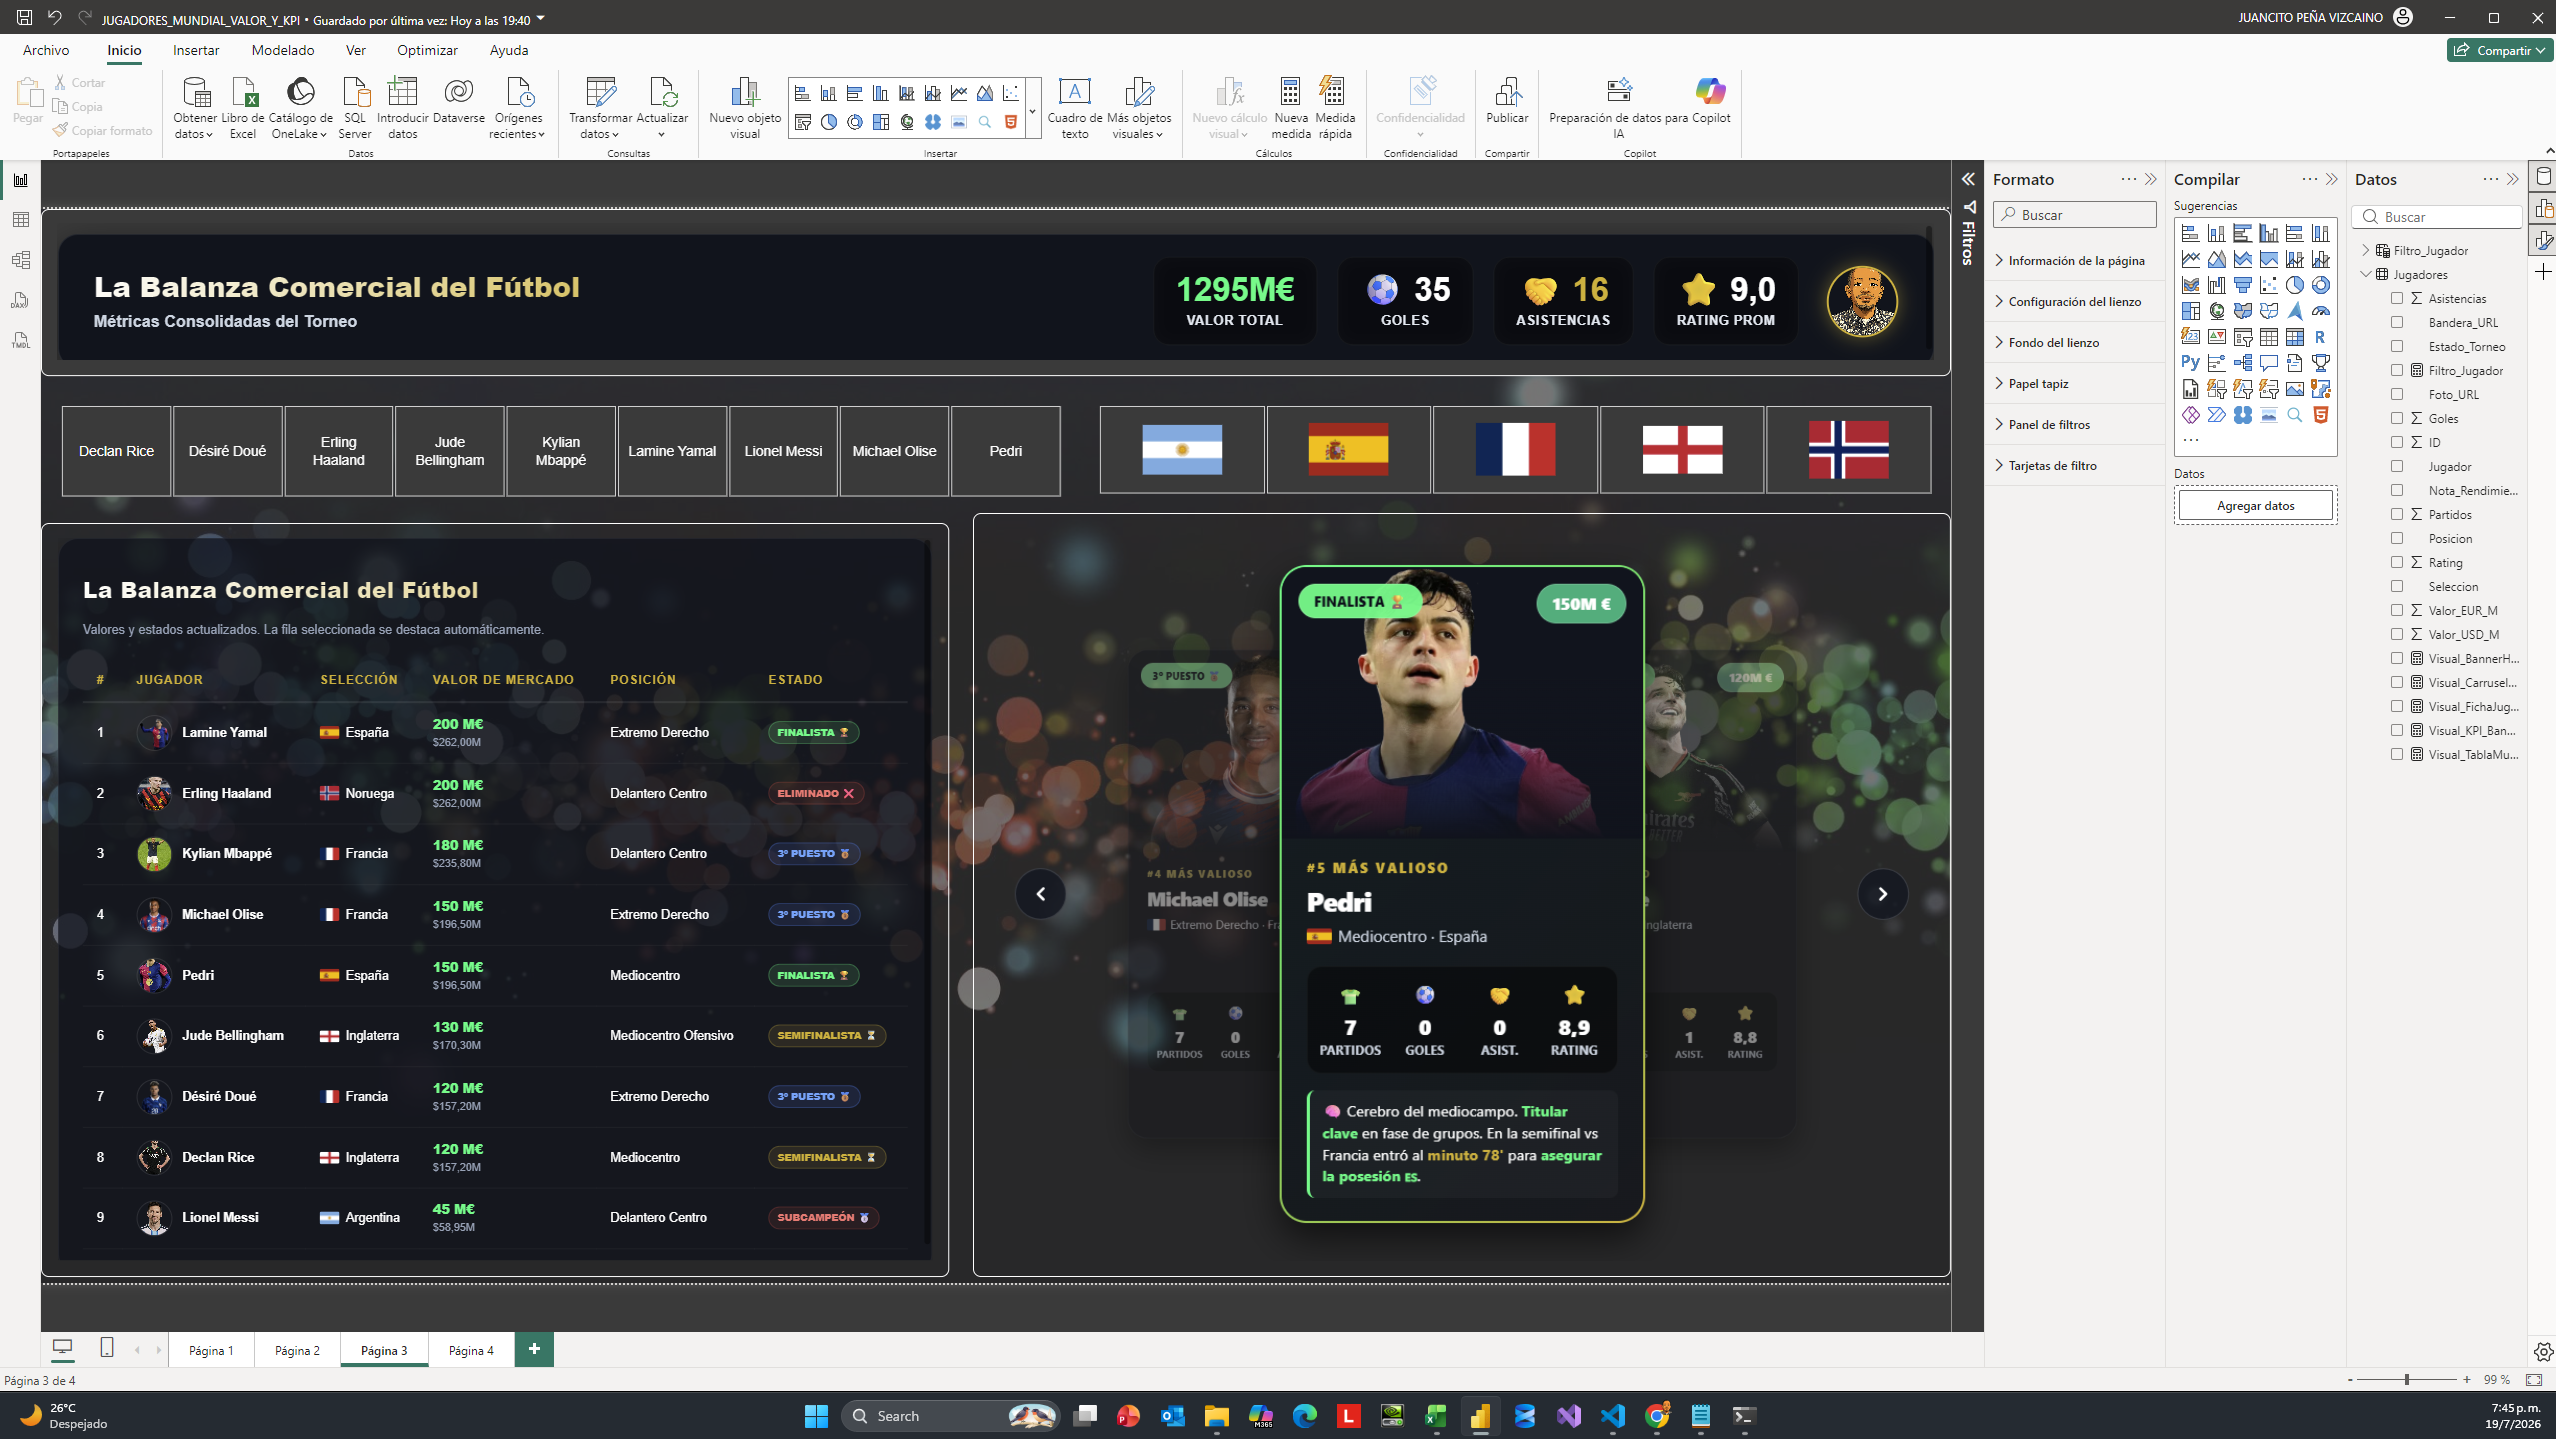

The dashboard page shown, as its layout file describes it:
{"tool":"powerbi","page":{"name":"Página 3","canvas":[1920,1080],"ordinal":2},"visuals":[{"type":"htmlContent443BE3AD55E043BF878BED274D3A6855","fields":{"content":["Jugadores.Visual_TablaMundialHTML"]},"box":[0,315.6,912.8,757.9],"z":0},{"type":"slicer","fields":{"Values":["Jugadores.Jugador"]},"box":[0,195.8,1043.8,94.6],"z":1},{"type":"htmlContent443BE3AD55E043BF878BED274D3A6855","fields":{"content":["Jugadores.Visual_CarruselMundialHTML"],"sampling":["Jugadores.Jugador"]},"box":[937.2,305.9,983.2,767.6],"z":2},{"type":"htmlContent443BE3AD55E043BF878BED274D3A6855","fields":{"content":["Jugadores.Visual_KPI_BannerHTML"]},"box":[0,0,1919.7,167.9],"z":3},{"type":"slicer","fields":{"Values":["Jugadores.Bandera_URL"]},"box":[1043.8,195.8,875.9,91.9],"z":4}]}

Visuals, with their boxes on the page's 1920x1080 design canvas (x1, y1, x2, y2). These are canvas units, not pixel positions in the 2556x1439 screenshot, which may show the page scaled, cropped or inside an application window:
htmlContent443BE3AD55E043BF878BED274D3A6855 - Jugadores.Visual_TablaMundialHTML: (left=0, top=316, right=913, bottom=1074)
slicer - Jugadores.Jugador: (left=0, top=196, right=1044, bottom=290)
htmlContent443BE3AD55E043BF878BED274D3A6855 - Jugadores.Visual_CarruselMundialHTML x Jugadores.Jugador: (left=937, top=306, right=1920, bottom=1074)
htmlContent443BE3AD55E043BF878BED274D3A6855 - Jugadores.Visual_KPI_BannerHTML: (left=0, top=0, right=1920, bottom=168)
slicer - Jugadores.Bandera_URL: (left=1044, top=196, right=1920, bottom=288)
